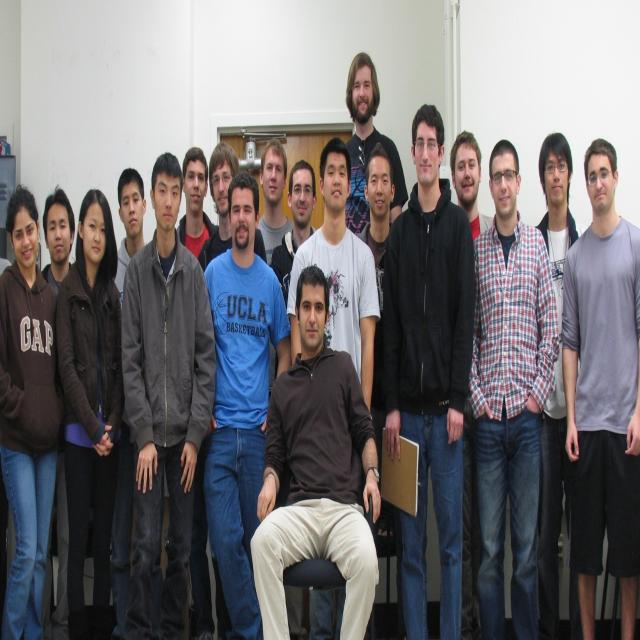body: (376, 100, 478, 640), (459, 134, 562, 640), (249, 261, 383, 640), (120, 148, 218, 639), (286, 135, 380, 640), (194, 170, 294, 640), (557, 135, 640, 640), (52, 185, 128, 639), (524, 132, 589, 636), (0, 180, 68, 639), (447, 127, 496, 640), (111, 167, 149, 640), (40, 187, 76, 639), (250, 134, 302, 406), (345, 50, 410, 234), (356, 143, 397, 417), (271, 160, 317, 384), (195, 138, 268, 278), (177, 148, 220, 264)
